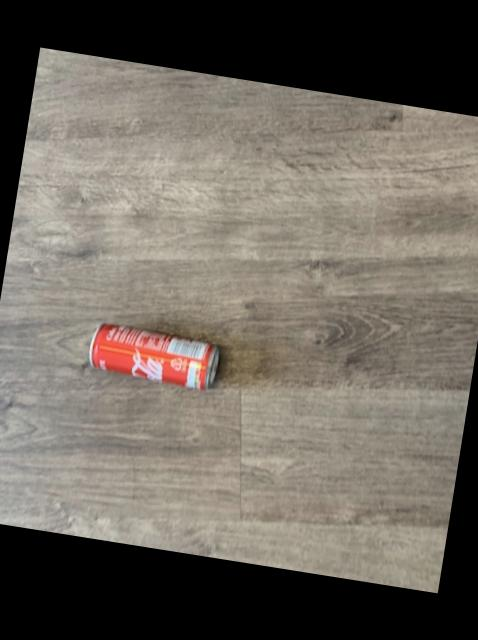metal: (91, 322, 221, 388)
